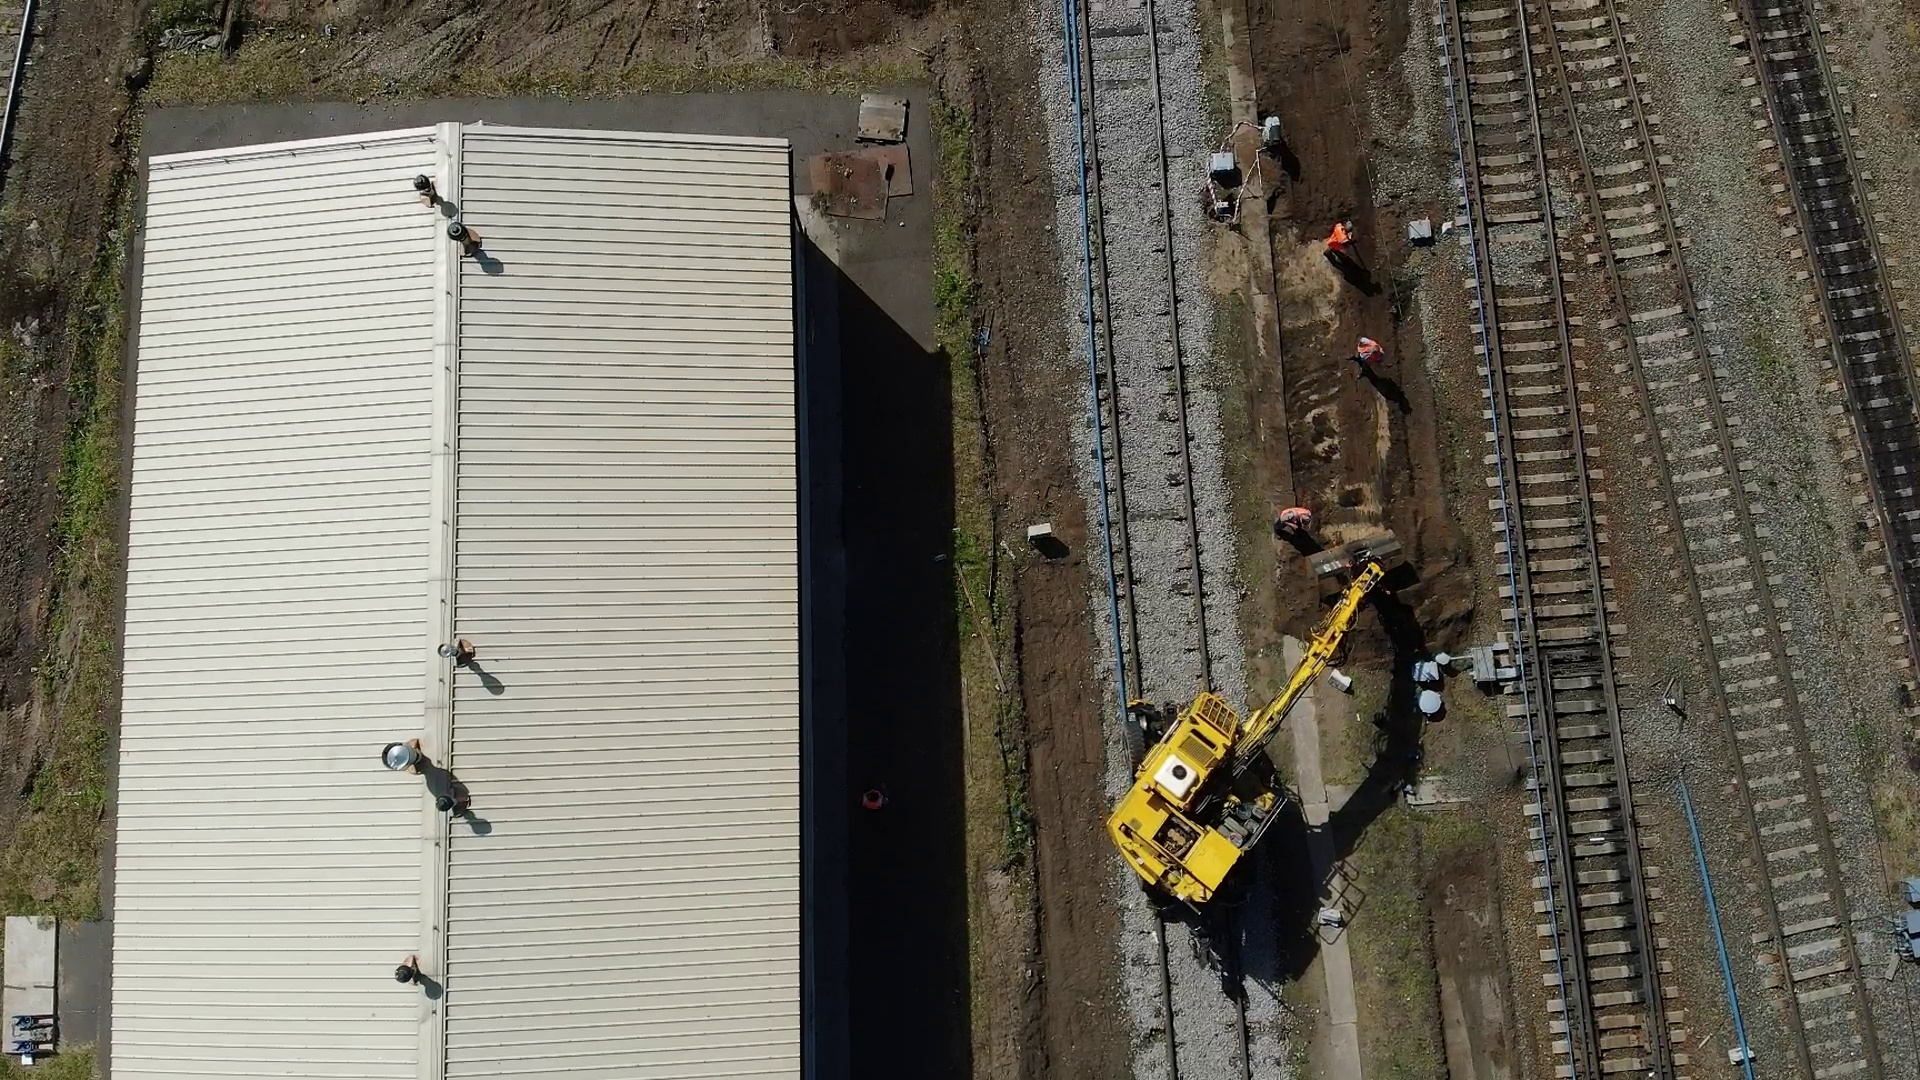kjtv: (1106, 625, 1357, 920)
